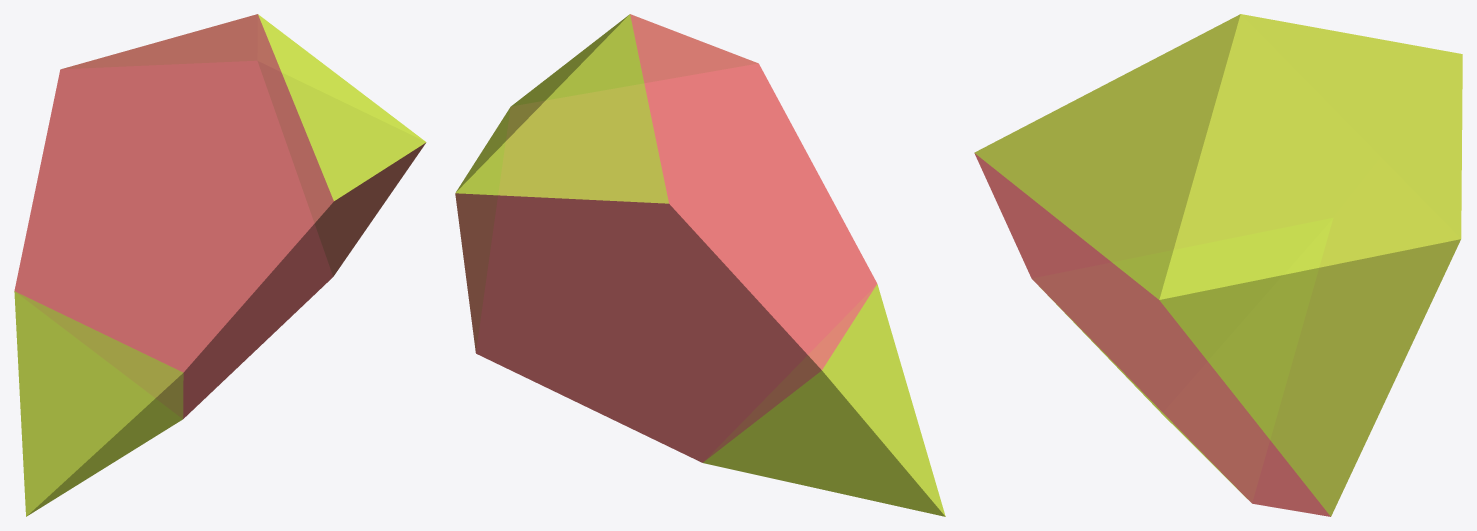
Rendered from j64_augmented_tridiminished_icosahedron.obj.
3 views of the same model, side by side, from view 1: azimuth 30°, elevation 25°; view 2: azimuth 150°, elevation 25°; view 3: azimuth 270°, elevation 25° (orthographic). The views are drawn at different scales.
Size of the model in its own units: 1.95 by 1.95 by 1.5.
